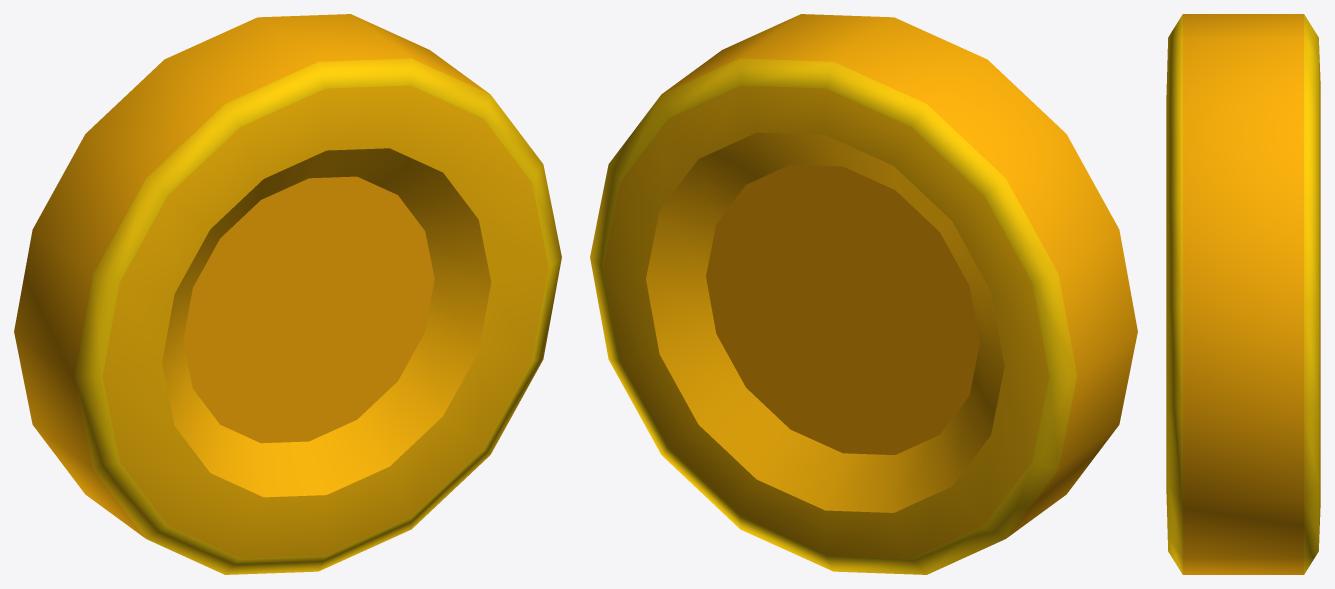
Rendered from coin_001.fbx.
3 renders of one model, left to right at view 1: azimuth 30°, elevation 25°; view 2: azimuth 150°, elevation 25°; view 3: azimuth 270°, elevation 25°, orthographic.
Visible parts, largest first — view 1: coin_001; view 2: coin_001; view 3: coin_001.
Boxes of the visible parts, x1,y1,x2,y2 form: coin_001: (14, 14, 561, 574); coin_001: (590, 14, 1137, 574); coin_001: (1166, 14, 1320, 574).
Size of the model in its own units: 93.46 by 25.73 by 93.46.
